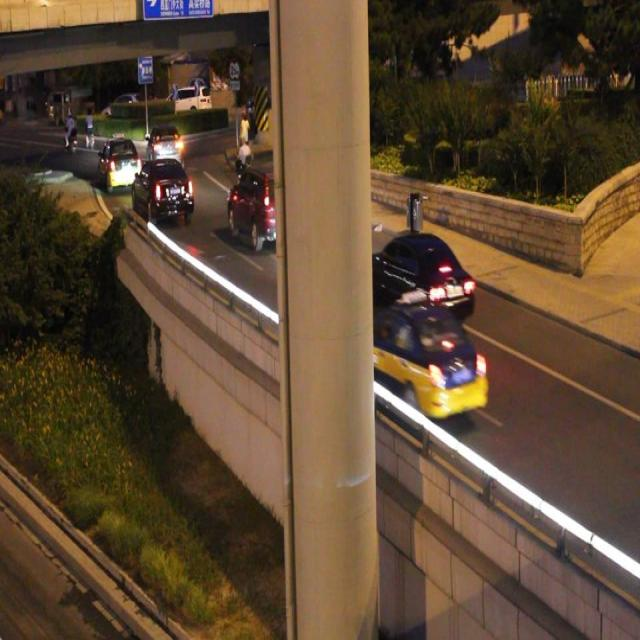car: (335, 294, 487, 422), (352, 230, 475, 334), (226, 162, 299, 252), (131, 157, 194, 225)
